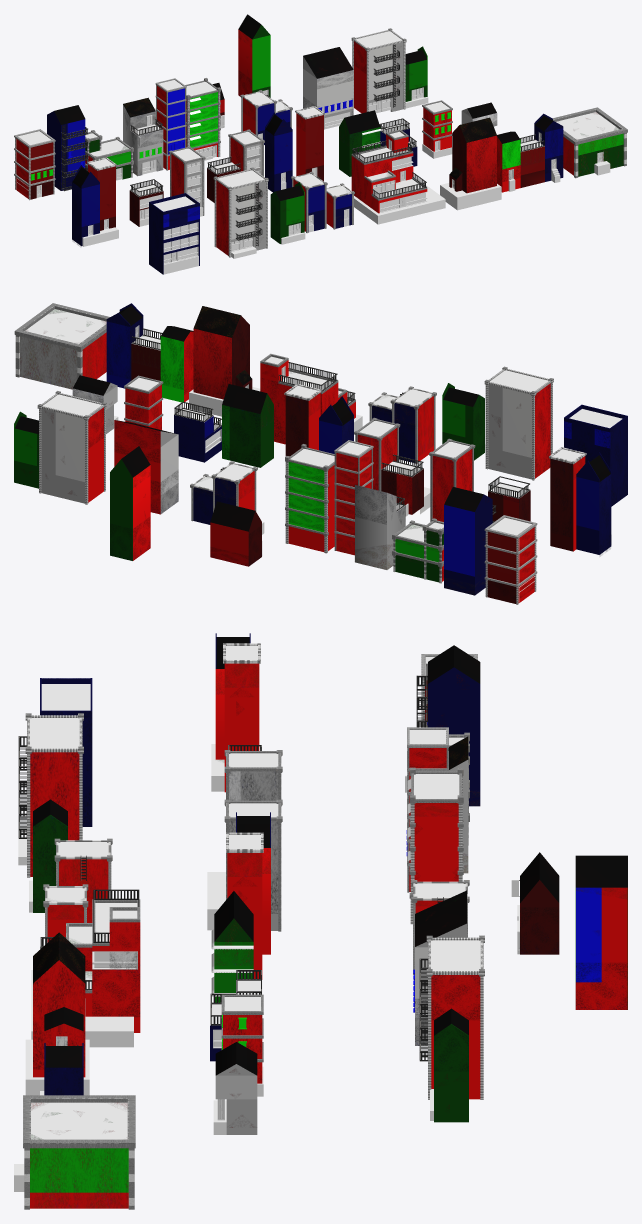
The model's file is Buildings.gltf.
The picture shows the model from 3 angles, top to bottom: view 1: azimuth 30°, elevation 25°; view 2: azimuth 150°, elevation 25°; view 3: azimuth 270°, elevation 25°; orthographic projection. The views are drawn at different scales.
Parts seen in each view (by area): view 1: Building_27, Building_11, Building_23, Building_28, Building_29, Building_30, Building_22, Building_12, Building_10, Building_1, Building_2, Building_6 (+17 smaller); view 2: Building_11, Building_23, Building_30, Building_12, Building_29, Building_28, Building_6, Building_2, Building_1, Building_9, Building_18, Building_22 (+18 smaller); view 3: Building_30, Building_11, Building_27, Building_9, Building_23, Building_6, Building_12, Building_2, Building_28, Building_7, Building_21, Building_18 (+15 smaller).
Part boxes in pixels (left/top/right/bottom): Building_27: left=351, top=129, right=445, bottom=224; Building_11: left=351, top=28, right=428, bottom=113; Building_23: left=213, top=167, right=268, bottom=258; Building_28: left=440, top=117, right=501, bottom=210; Building_29: left=497, top=113, right=563, bottom=192; Building_30: left=553, top=107, right=627, bottom=178; Building_22: left=149, top=193, right=199, bottom=274; Building_12: left=72, top=157, right=118, bottom=246; Building_10: left=303, top=47, right=353, bottom=129; Building_1: left=14, top=129, right=55, bottom=200; Building_2: left=47, top=105, right=88, bottom=191; Building_6: left=185, top=78, right=220, bottom=160; Building_11: left=14, top=391, right=106, bottom=504; Building_23: left=484, top=366, right=553, bottom=480; Building_30: left=14, top=303, right=109, bottom=389; Building_12: left=549, top=447, right=611, bottom=556; Building_29: left=106, top=303, right=193, bottom=402; Building_28: left=189, top=306, right=260, bottom=416; Building_6: left=285, top=444, right=334, bottom=553; Building_2: left=444, top=487, right=496, bottom=595; Building_1: left=484, top=515, right=537, bottom=604; Building_9: left=110, top=446, right=150, bottom=560; Building_18: left=220, top=384, right=273, bottom=467; Building_22: left=564, top=404, right=627, bottom=506; Building_30: left=14, top=1095, right=135, bottom=1209; Building_11: left=419, top=935, right=484, bottom=1122; Building_27: left=31, top=889, right=140, bottom=1047; Building_9: left=575, top=855, right=627, bottom=1009; Building_23: left=18, top=713, right=83, bottom=877; Building_6: left=407, top=767, right=463, bottom=924; Building_12: left=211, top=633, right=260, bottom=792; Building_2: left=416, top=645, right=480, bottom=806; Building_28: left=25, top=932, right=89, bottom=1095; Building_7: left=511, top=852, right=559, bottom=954; Building_21: left=213, top=1042, right=257, bottom=1134; Building_18: left=211, top=891, right=253, bottom=1002.
Size of what is drawn, in the model's own units: 121 by 21.02 by 70.43.
4 materials, 3 textured.
